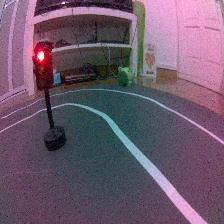red: (31, 43, 69, 153)
